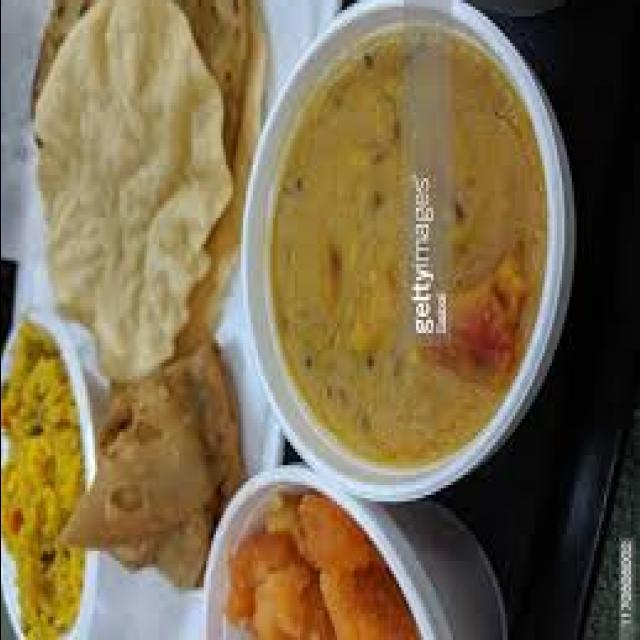dal: (271, 23, 547, 459)
papad: (23, 0, 234, 379)
